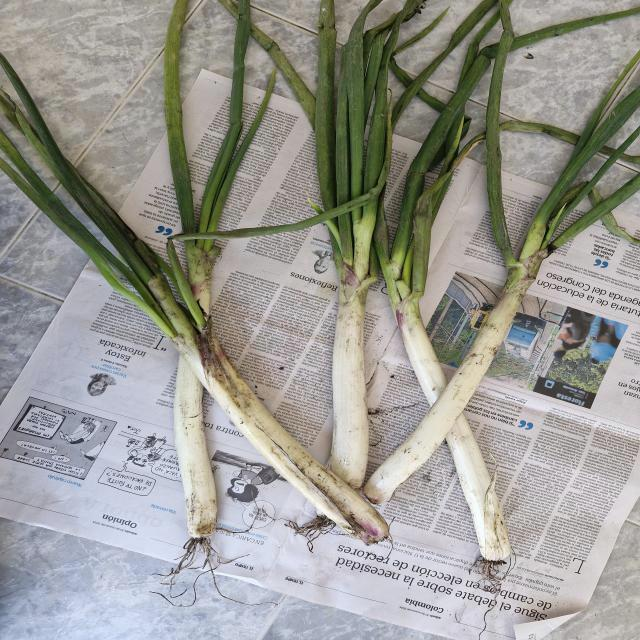green_onion: (0, 74, 393, 546), (369, 102, 631, 506)
